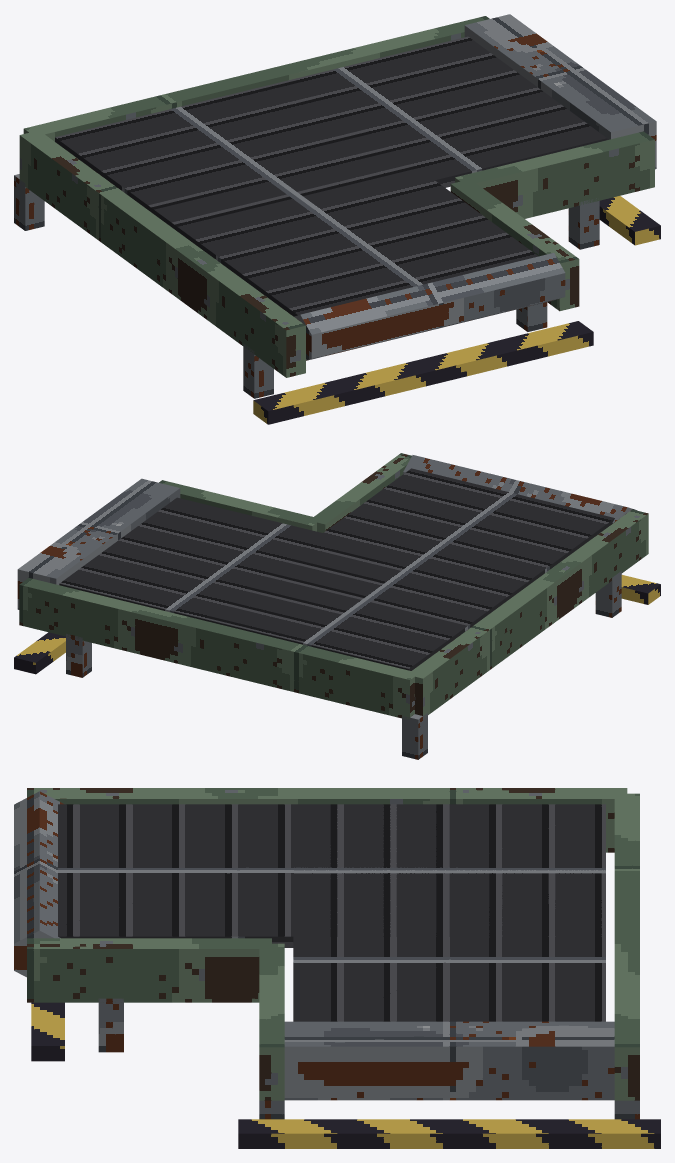
The model's file is machinery__conveyor_corner_right.glb.
3 renders of one model, top to bottom at view 1: azimuth 30°, elevation 25°; view 2: azimuth 150°, elevation 25°; view 3: azimuth 270°, elevation 25°, orthographic. The views are drawn at different scales.
Visible parts, largest first — view 1: _MeshInstance3D_62, _MeshInstance3D_64, _MeshInstance3D_61, _MeshInstance3D_63; view 2: _MeshInstance3D_62, _MeshInstance3D_64, _MeshInstance3D_61, _MeshInstance3D_63; view 3: _MeshInstance3D_62, _MeshInstance3D_64, _MeshInstance3D_61, _MeshInstance3D_63.
Part boxes in pixels (bbox=[...]): _MeshInstance3D_62: bbox=[55, 36, 607, 316]; _MeshInstance3D_64: bbox=[19, 16, 654, 377]; _MeshInstance3D_61: bbox=[14, 14, 656, 398]; _MeshInstance3D_63: bbox=[253, 196, 660, 424]; _MeshInstance3D_62: bbox=[59, 468, 614, 670]; _MeshInstance3D_64: bbox=[19, 453, 648, 719]; _MeshInstance3D_61: bbox=[17, 455, 636, 759]; _MeshInstance3D_63: bbox=[14, 575, 660, 674]; _MeshInstance3D_62: bbox=[58, 804, 605, 1021]; _MeshInstance3D_64: bbox=[27, 788, 639, 1100]; _MeshInstance3D_61: bbox=[14, 791, 639, 1119]; _MeshInstance3D_63: bbox=[31, 1002, 660, 1148].
Size of the model in its own units: 1.54 by 0.29 by 1.53.
4 materials, 4 textured.
